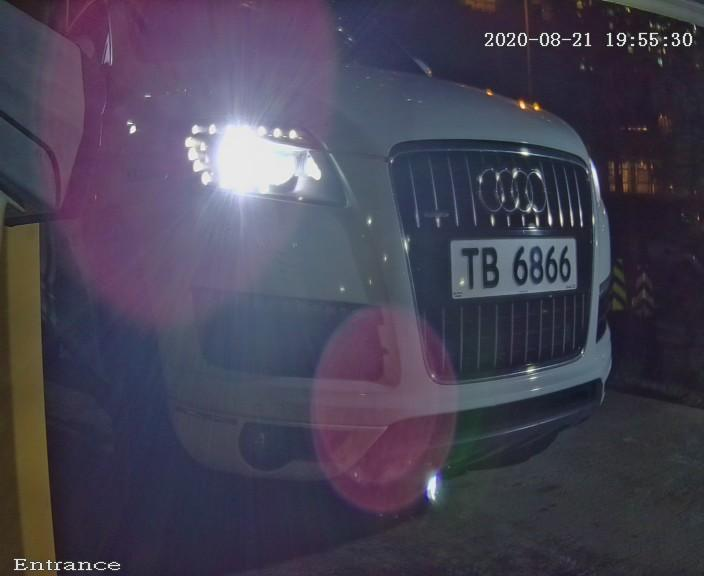Car: (35, 16, 639, 525)
License Plate: (425, 217, 594, 323)
